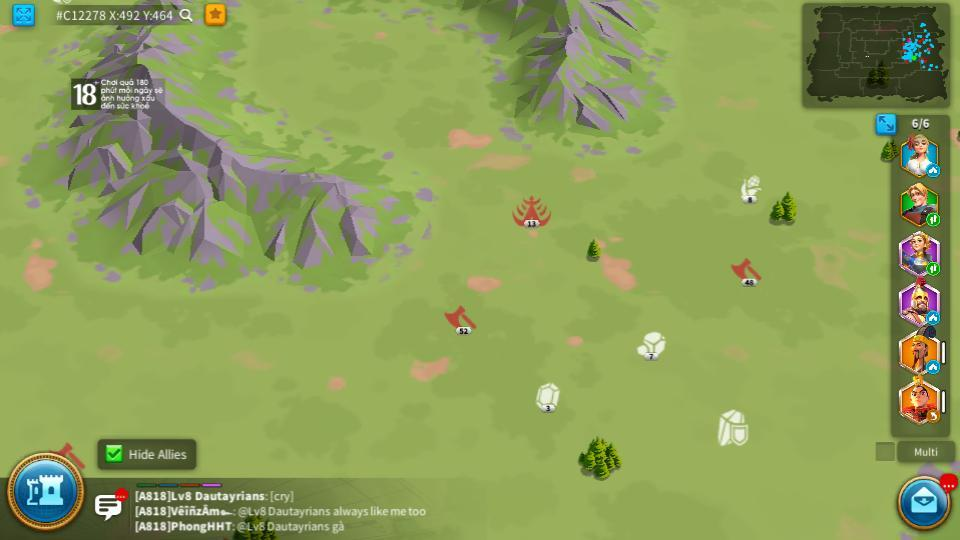gem-z-out: (534, 383, 560, 411)
march_idle: (927, 312, 940, 324), (927, 164, 941, 175), (927, 362, 940, 373)
march_marching: (925, 263, 938, 275), (927, 215, 940, 226)
march_returning: (926, 411, 940, 422)
